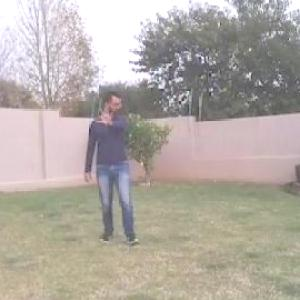follow_hand: (93, 103, 118, 127)
